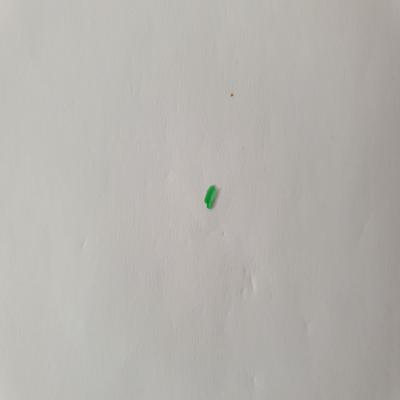plastic: (201, 181, 224, 216)
